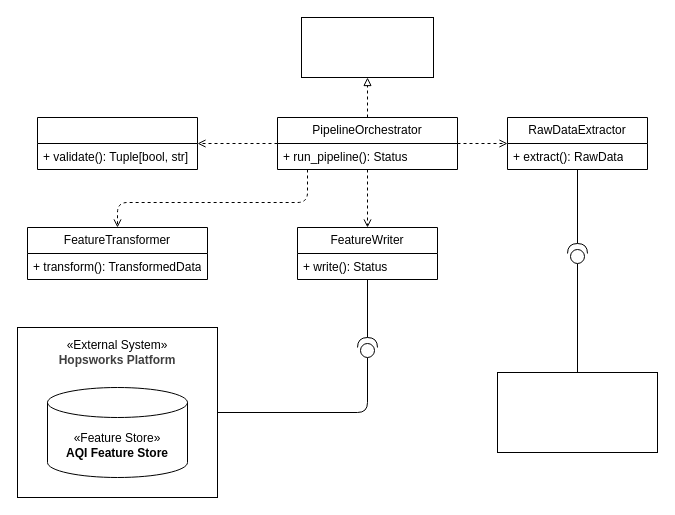
Image size: 675x515. Some labels were removed from this diagram. The box of each missing label's shape, as (x1, y1, x2, y2) in pixels:
DataValidator: (36, 116, 198, 170)
«External System» OpenWeather API: (496, 372, 658, 452)
«interface» Feature Pipeline Interface: (300, 16, 434, 78)
